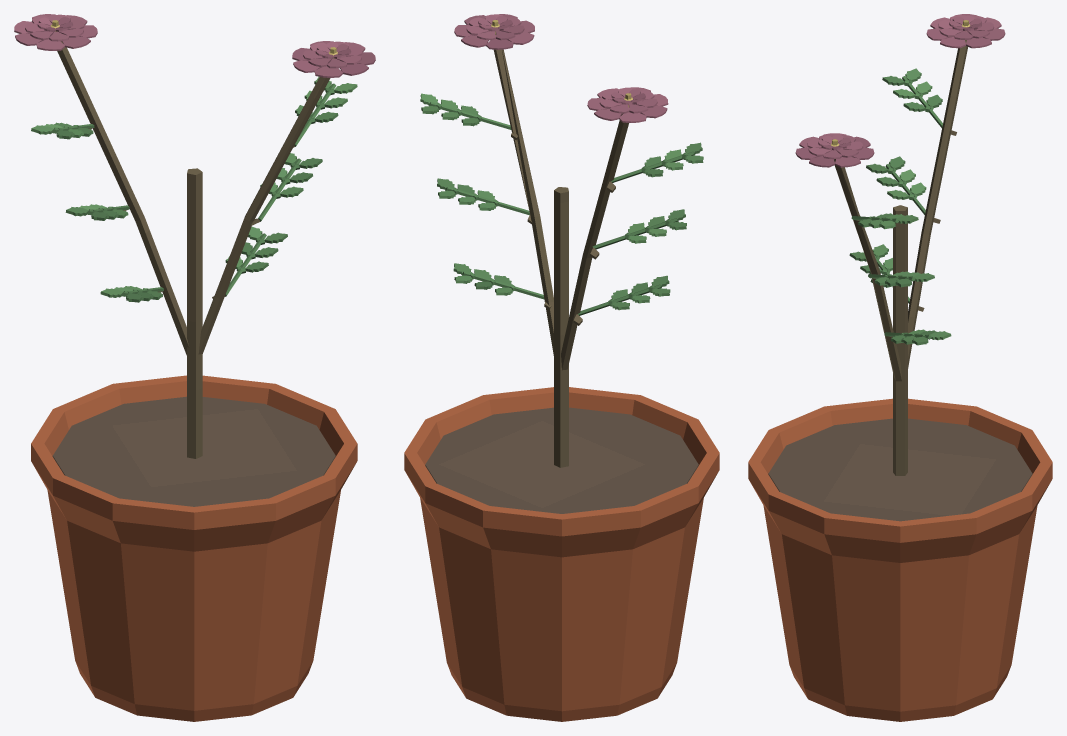
File: rose.glb
3 renders of one model, left to right at view 1: azimuth 30°, elevation 25°; view 2: azimuth 150°, elevation 25°; view 3: azimuth 270°, elevation 25°, orthographic. The views are drawn at different scales.
Visible parts, largest first — view 1: rose/review-terra-vessel, rose/review-rooted-soil, rose/petiole-001, rose/stem-068, rose/stem-002; view 2: rose/review-terra-vessel, rose/review-rooted-soil, rose/petiole-001, rose/stem-002, rose/stem-068; view 3: rose/review-terra-vessel, rose/review-rooted-soil, rose/petiole-001, rose/stem-068, rose/stem-002.
Boxes of the visible parts, x1=… form: rose/review-terra-vessel: x1=31, y1=375, x2=357, y2=721; rose/review-rooted-soil: x1=52, y1=396, x2=335, y2=506; rose/petiole-001: x1=187, y1=168, x2=202, y2=458; rose/stem-068: x1=57, y1=41, x2=189, y2=355; rose/stem-002: x1=198, y1=77, x2=330, y2=354; rose/review-terra-vessel: x1=404, y1=387, x2=719, y2=721; rose/review-rooted-soil: x1=425, y1=407, x2=698, y2=513; rose/petiole-001: x1=554, y1=187, x2=568, y2=467; rose/stem-002: x1=493, y1=34, x2=553, y2=355; rose/stem-068: x1=561, y1=113, x2=628, y2=370; rose/review-terra-vessel: x1=748, y1=398, x2=1052, y2=721; rose/review-rooted-soil: x1=768, y1=418, x2=1032, y2=521; rose/petiole-001: x1=893, y1=205, x2=907, y2=475; rose/stem-068: x1=908, y1=40, x2=967, y2=368; rose/stem-002: x1=834, y1=159, x2=901, y2=381.
Size of the model in its own units: 0.2956 by 0.595 by 0.27.
6 materials, 6 textured.
